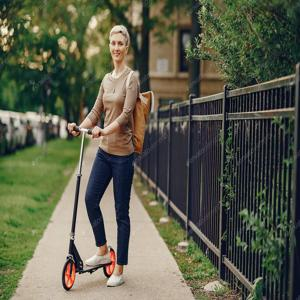human on a scooter: (61, 24, 155, 291)
